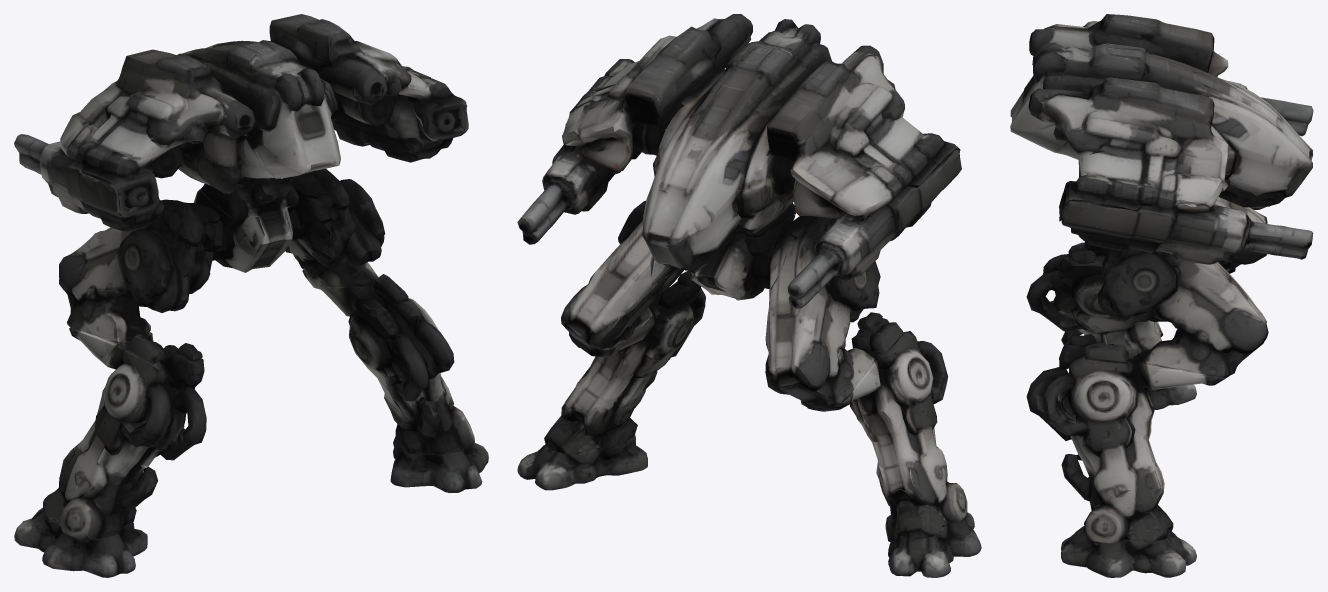
Rendered from hero_l1.glb.
3 views of the same model, side by side, from view 1: azimuth 30°, elevation 25°; view 2: azimuth 150°, elevation 25°; view 3: azimuth 270°, elevation 25° (orthographic). The views are drawn at different scales.
Visible parts, largest first — view 1: hull, shin_l, thigh_l, shin_r, thigh_r, pelvis, weapon_l, foot_l, weapon_r, foot_r; view 2: hull, shin_l, thigh_l, shin_r, thigh_r, weapon_l, pelvis, weapon_r, foot_r, foot_l; view 3: hull, shin_r, thigh_r, weapon_r, shin_l, foot_r, thigh_l, weapon_l, foot_l.
Part boxes in pixels (x1=…): hull: x1=60, y1=14, x2=468, y2=225; shin_l: x1=43, y1=327, x2=206, y2=540; thigh_l: x1=59, y1=199, x2=210, y2=363; shin_r: x1=302, y1=269, x2=474, y2=454; thigh_r: x1=285, y1=168, x2=408, y2=315; pelvis: x1=191, y1=176, x2=332, y2=272; weapon_l: x1=14, y1=134, x2=163, y2=232; foot_l: x1=14, y1=508, x2=147, y2=577; weapon_r: x1=331, y1=95, x2=468, y2=162; foot_r: x1=390, y1=436, x2=488, y2=493; hull: x1=563, y1=14, x2=960, y2=271; shin_l: x1=800, y1=318, x2=967, y2=538; thigh_l: x1=765, y1=216, x2=903, y2=406; shin_r: x1=544, y1=281, x2=705, y2=454; thigh_r: x1=561, y1=200, x2=695, y2=351; weapon_l: x1=787, y1=150, x2=961, y2=309; pelvis: x1=651, y1=215, x2=795, y2=305; weapon_r: x1=517, y1=124, x2=641, y2=244; foot_r: x1=517, y1=435, x2=647, y2=490; foot_l: x1=885, y1=512, x2=981, y2=577; hull: x1=1010, y1=14, x2=1313, y2=221; shin_r: x1=1026, y1=341, x2=1228, y2=543; thigh_r: x1=1068, y1=248, x2=1268, y2=377; weapon_r: x1=1061, y1=201, x2=1313, y2=264; shin_l: x1=1026, y1=242, x2=1235, y2=359; foot_r: x1=1061, y1=526, x2=1196, y2=577; thigh_l: x1=1068, y1=197, x2=1267, y2=270; weapon_l: x1=1228, y1=81, x2=1313, y2=136; foot_l: x1=1147, y1=384, x2=1196, y2=409.
Size of the model in its own units: 3.22 by 3.25 by 2.06.
Materials: 1 (1 with a texture image).
